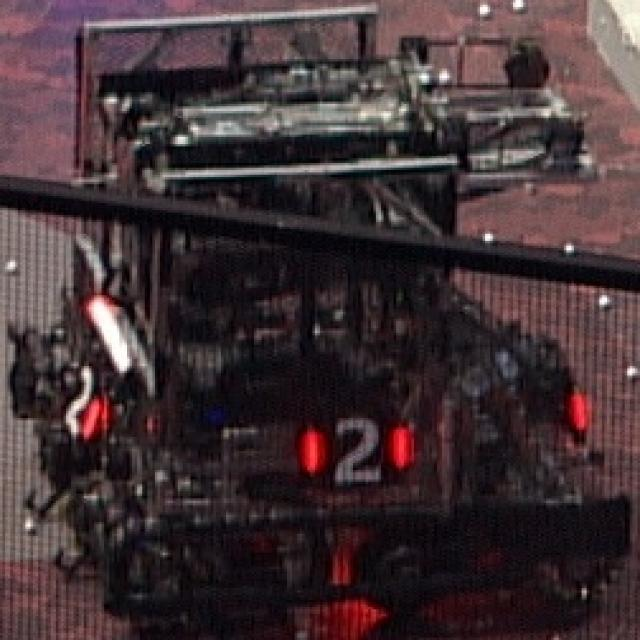R2: (293, 404, 418, 493), (54, 362, 110, 439)
